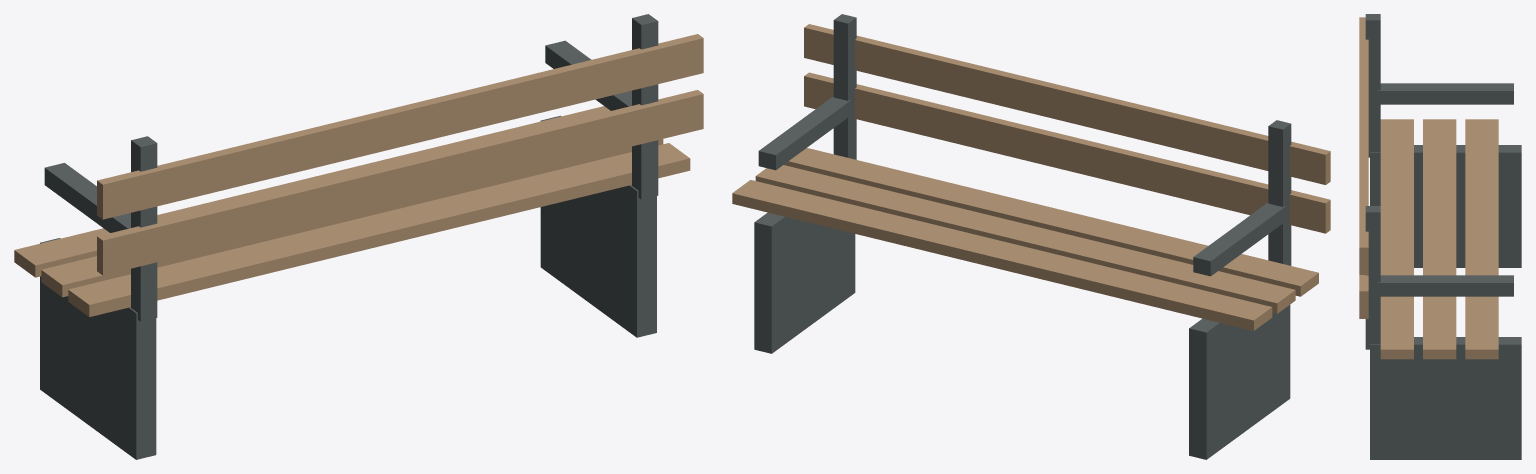
Rendered from bench.glb.
3 renders of one model, left to right at view 1: azimuth 30°, elevation 25°; view 2: azimuth 150°, elevation 25°; view 3: azimuth 270°, elevation 25°, orthographic. The views are drawn at different scales.
Visible parts, largest first — view 1: bench; view 2: bench; view 3: bench.
Part boxes in pixels (<box>): bench: <box>14,14,703,459</box>; bench: <box>732,14,1330,459</box>; bench: <box>1359,14,1521,459</box>.
Size of the model in its own units: 1.8 by 0.9 by 0.535.
